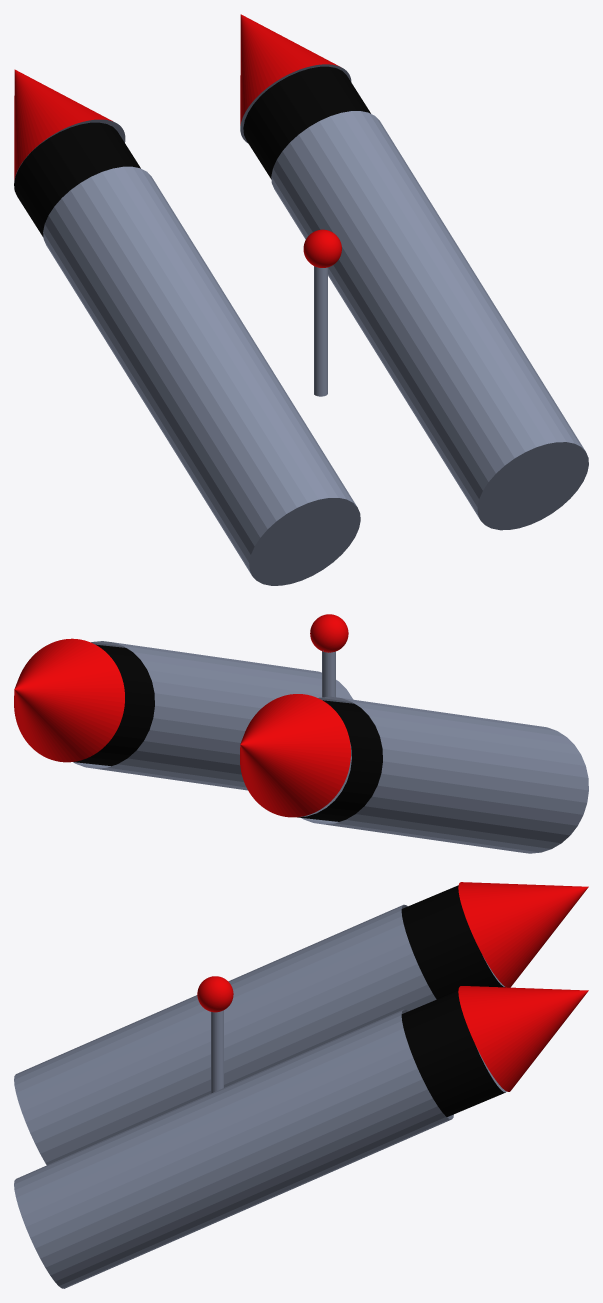
Rendered from RocketTurret 1.fbx.
3 renders of one model, top to bottom at view 1: azimuth 30°, elevation 25°; view 2: azimuth 150°, elevation 25°; view 3: azimuth 270°, elevation 25°, orthographic. The views are drawn at different scales.
Visible parts, largest first — view 1: RocketTurret; view 2: RocketTurret; view 3: RocketTurret.
Part boxes in pixels (x1,y1,x2,y2): RocketTurret: (14, 14, 588, 585); RocketTurret: (14, 614, 588, 853); RocketTurret: (14, 882, 588, 1288).
Size of the model in its own units: 214 by 189 by 337.
